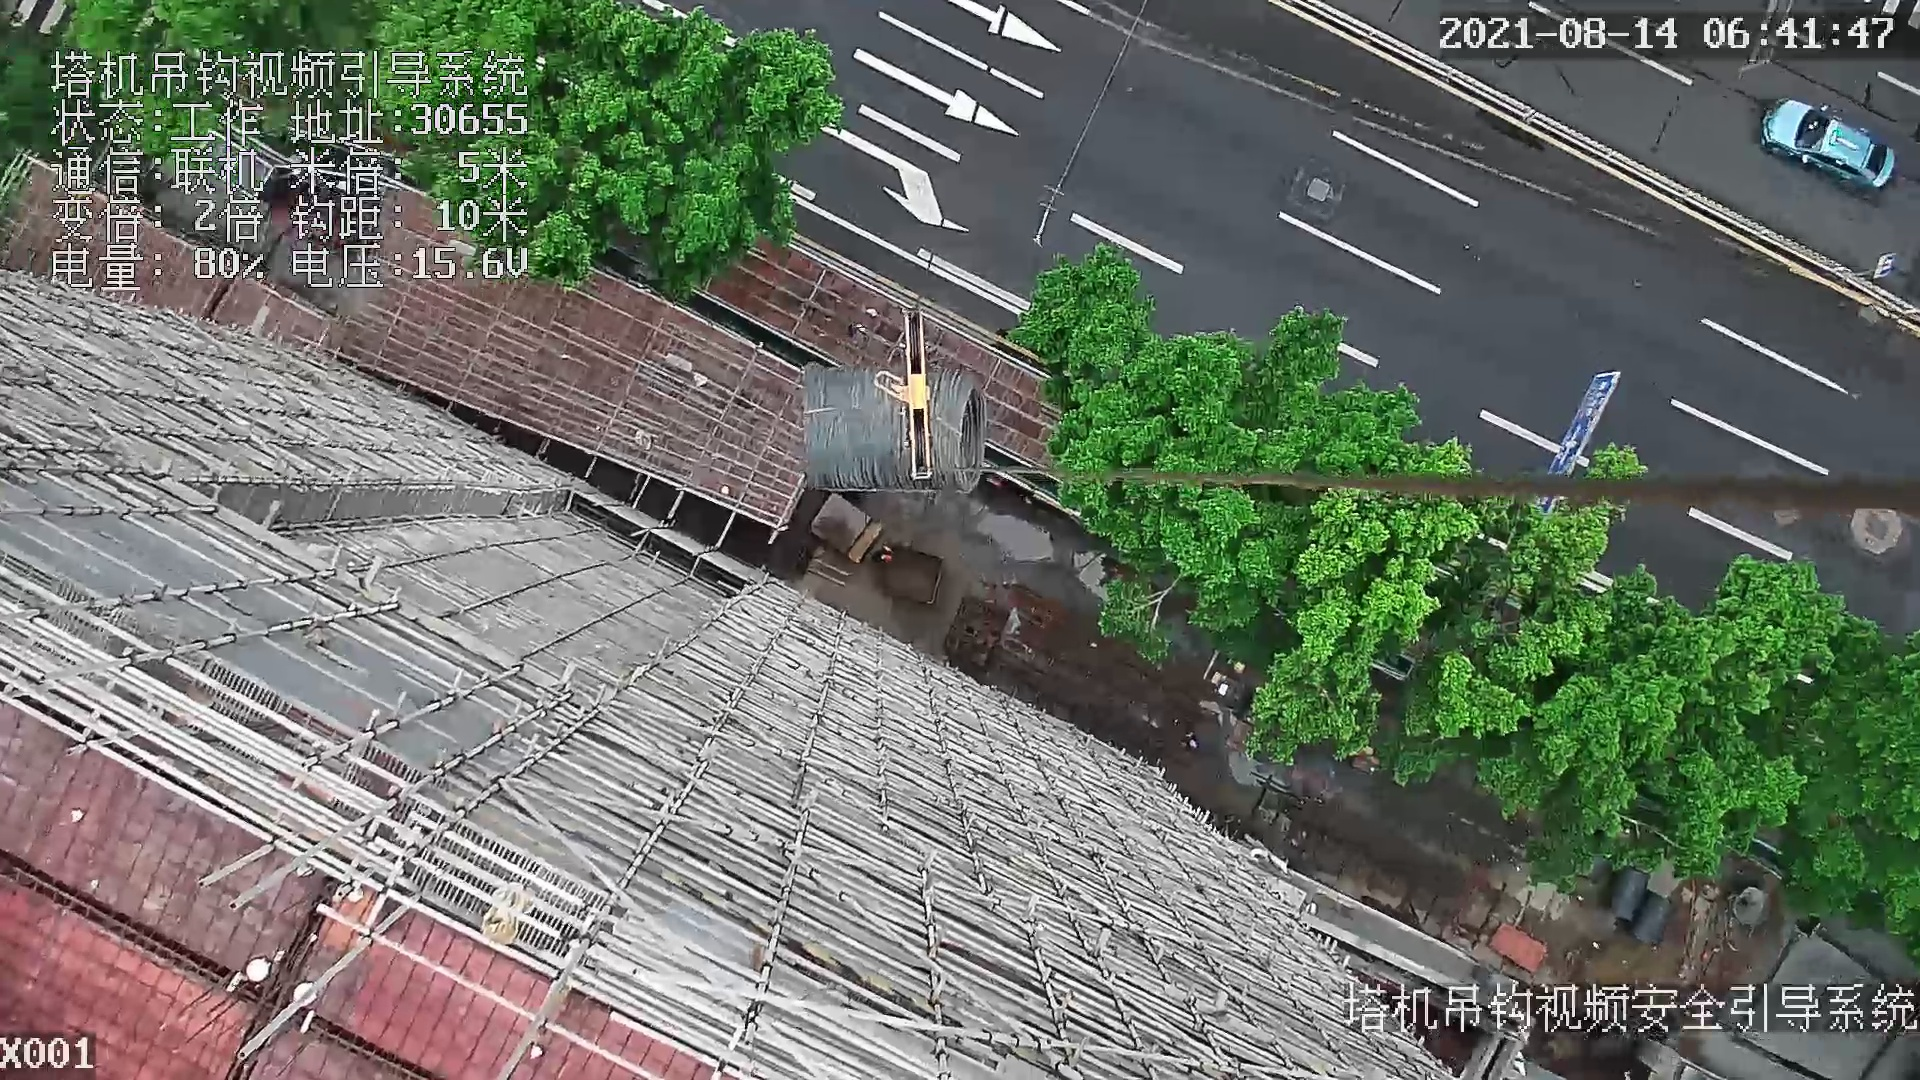hook: (870, 306, 933, 482)
person: (871, 545, 893, 564), (1181, 730, 1200, 752)
